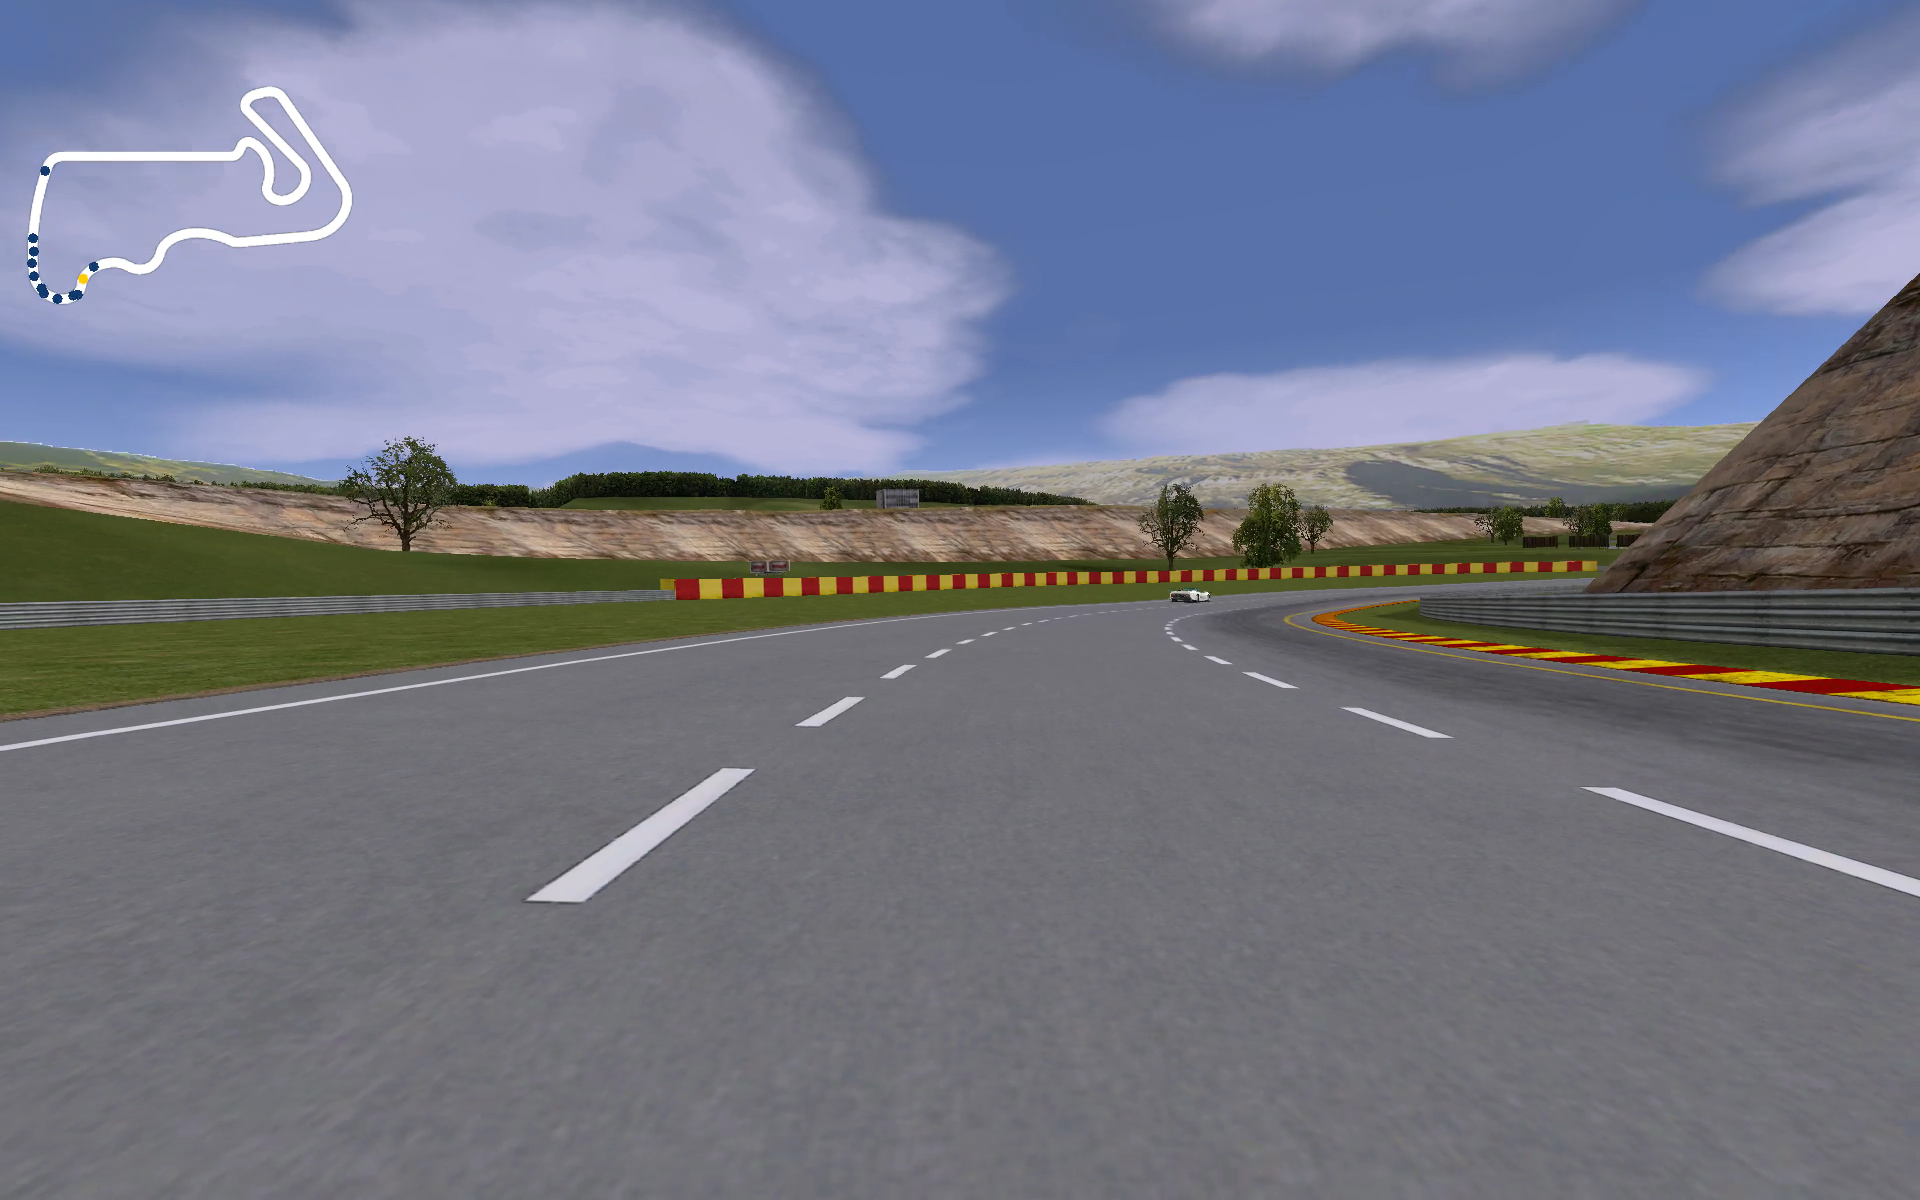car: (1168, 586, 1214, 606)
